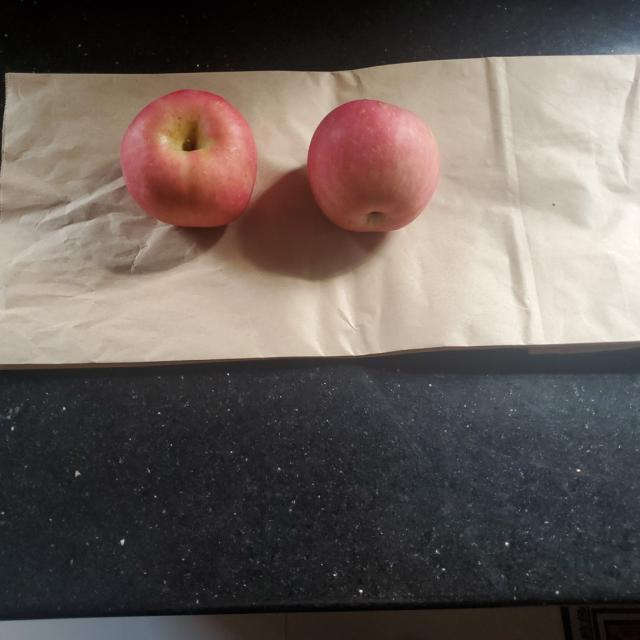apple: (118, 84, 256, 225), (306, 97, 438, 232)
